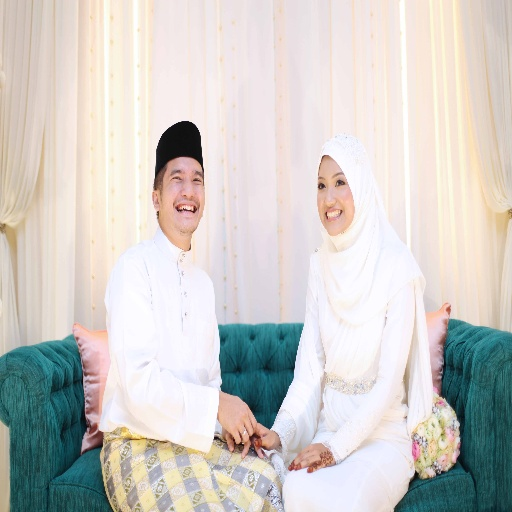hand: (210, 394, 251, 453), (287, 441, 335, 472), (241, 423, 280, 460)
